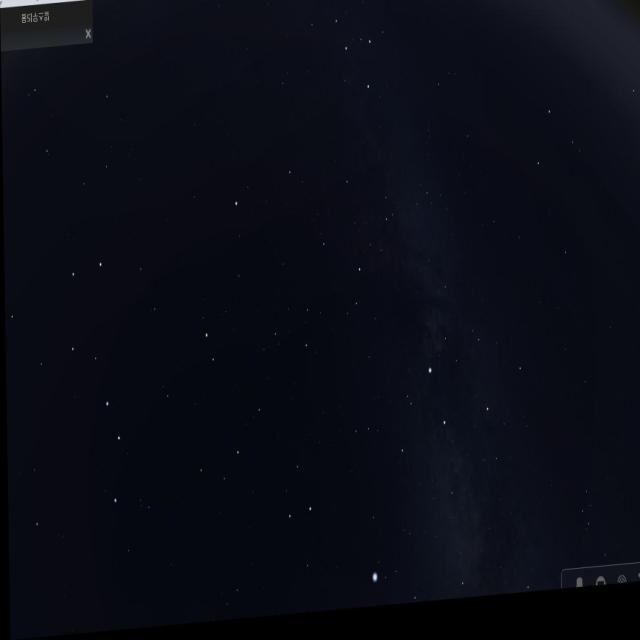cassiopeia: (297, 2, 394, 121)
cygnus: (392, 354, 495, 567)
ursa_major: (53, 248, 138, 525)
